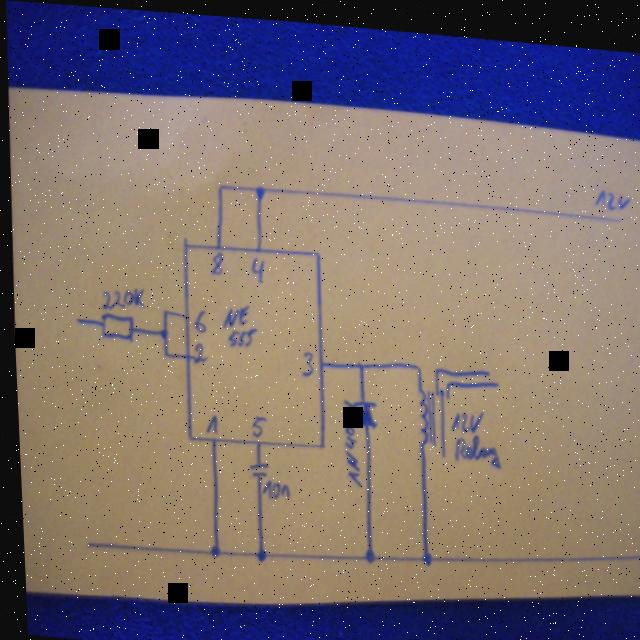capacitor: (243, 454, 267, 476)
diode: (350, 392, 376, 426)
junction: (249, 540, 262, 559), (415, 543, 428, 560), (358, 542, 371, 559), (203, 539, 216, 555), (252, 180, 264, 195), (156, 323, 166, 337), (214, 177, 224, 191), (352, 354, 362, 365), (410, 355, 420, 365), (158, 304, 167, 314), (429, 358, 437, 368), (441, 372, 449, 381), (159, 346, 166, 355)
resistor: (93, 308, 133, 341)
terminal: (80, 537, 91, 548), (609, 205, 621, 215), (488, 371, 497, 381), (435, 443, 443, 453), (480, 358, 487, 369), (71, 314, 78, 323), (637, 539, 640, 554)
text: (336, 392, 359, 483), (215, 296, 256, 346), (448, 424, 499, 462), (97, 282, 144, 311), (591, 176, 630, 203), (446, 400, 480, 427), (256, 474, 286, 498), (245, 252, 264, 280), (295, 343, 312, 374), (245, 409, 264, 435), (188, 304, 205, 331), (187, 337, 204, 362), (207, 246, 222, 272), (200, 409, 215, 432)
